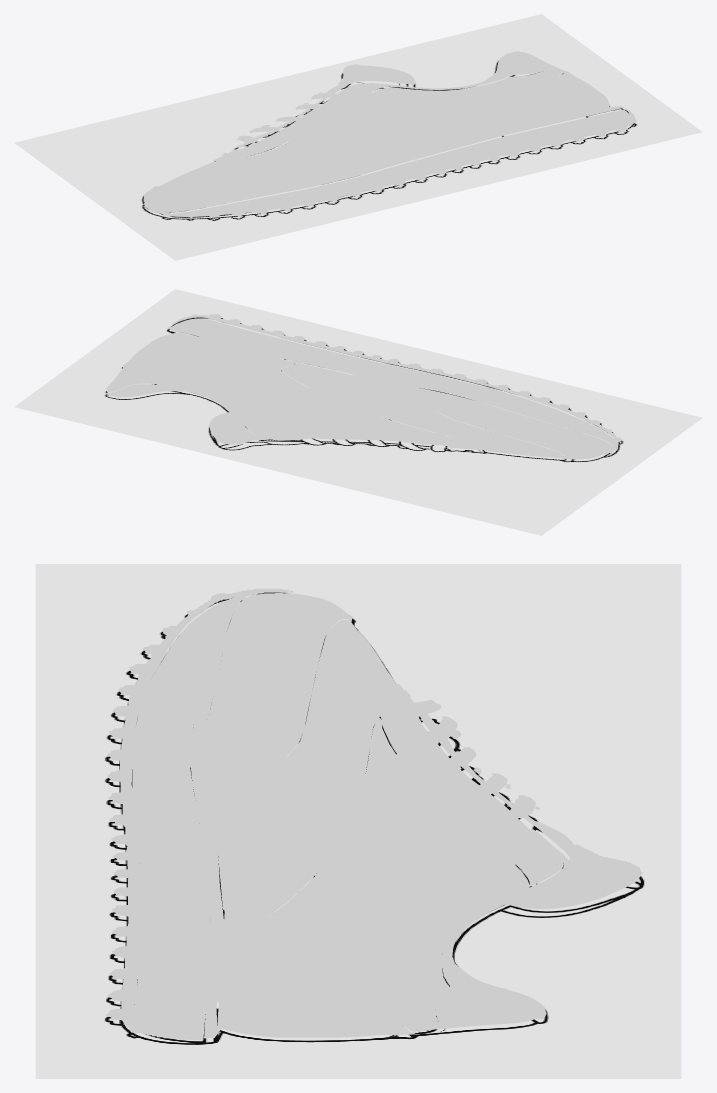
File: PumaFutureRider.FBX
3 renders of one model, top to bottom at view 1: azimuth 30°, elevation 25°; view 2: azimuth 150°, elevation 25°; view 3: azimuth 270°, elevation 25°, orthographic. The views are drawn at different scales.
Visible parts, largest first — view 1: Plane001, Line004, Line008, Line002, Line013, Line005, Line006, Line001, Line014, Line003, Line007, Line012 (+4 smaller); view 2: Plane001, Line004, Line008, Line002, Line013, Line005, Line006, Line001, Line014, Line003, Line007, Line012 (+4 smaller); view 3: Plane001, Line004, Line008, Line002, Line013, Line005, Line006, Line001, Line014, Line007, Line012, Line003 (+6 smaller).
Part boxes in pixels (box(x1,y1,x2,y2)): Plane001: box(14, 14, 702, 260); Line004: box(172, 109, 630, 214); Line008: box(316, 69, 563, 168); Line002: box(143, 163, 371, 210); Line013: box(251, 73, 558, 156); Line005: box(159, 127, 486, 187); Line006: box(481, 71, 609, 136); Line001: box(144, 109, 636, 217); Line014: box(213, 84, 386, 161); Line003: box(161, 106, 623, 212); Line007: box(494, 103, 588, 133); Line012: box(285, 91, 385, 141); Plane001: box(14, 289, 702, 535); Line004: box(172, 318, 613, 441); Line008: box(125, 366, 437, 417); Line002: box(420, 388, 611, 459); Line013: box(133, 369, 452, 438); Line005: box(280, 363, 564, 458); Line006: box(122, 332, 296, 377); Line001: box(171, 314, 621, 454); Line014: box(244, 424, 483, 450); Line003: box(168, 326, 613, 444); Line007: box(188, 334, 284, 365); Line012: box(266, 413, 412, 431); Plane001: box(35, 564, 681, 1078); Line004: box(132, 601, 227, 1040); Line008: box(207, 757, 437, 1029); Line002: box(201, 593, 352, 793); Line013: box(270, 717, 529, 1024); Line005: box(217, 620, 395, 916); Line006: box(217, 910, 414, 1037); Line001: box(106, 588, 293, 1039); Line014: box(377, 684, 563, 886); Line007: box(202, 921, 277, 1002); Line012: box(388, 751, 518, 864); Line003: box(190, 596, 245, 1038).
Size of the model in its own units: 219 by 4 by 116.
1 material, 1 textured.
